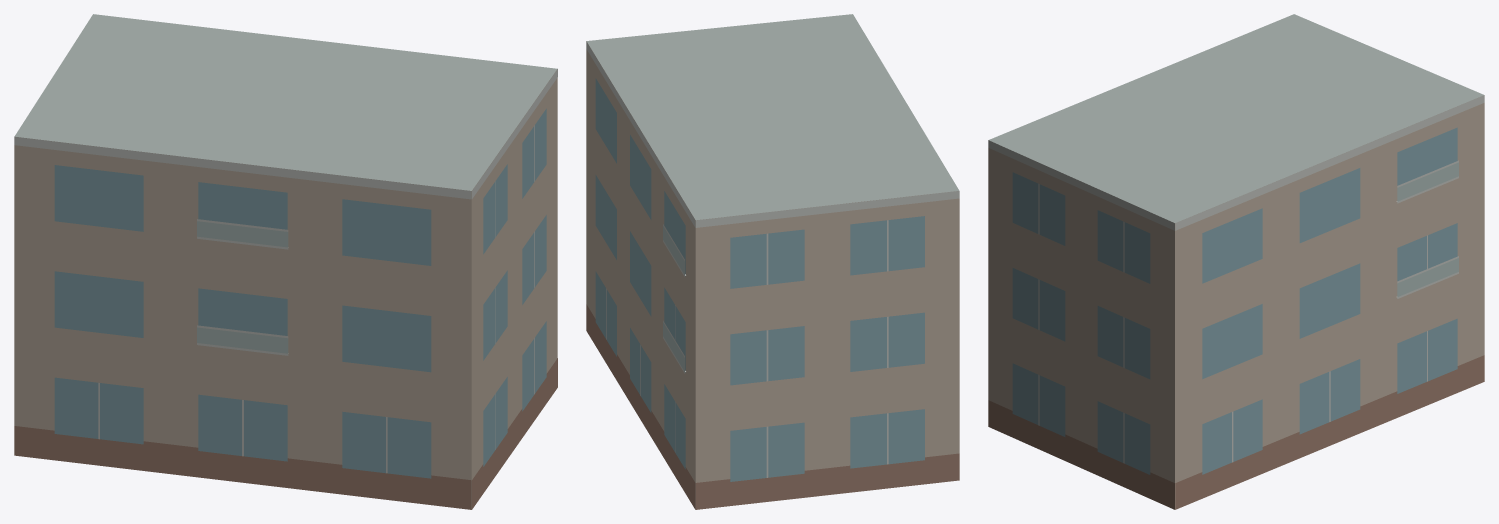
File: survey-upis-33031199.glb
3 renders of one model, left to right at view 1: azimuth 30°, elevation 25°; view 2: azimuth 150°, elevation 25°; view 3: azimuth 270°, elevation 25°, orthographic. The views are drawn at different scales.
Visible parts, largest first — view 1: survey-upis-33031199.tmp; view 2: survey-upis-33031199.tmp; view 3: survey-upis-33031199.tmp.
Boxes of the visible parts, x1,y1,x2,y2 form: survey-upis-33031199.tmp: (14, 14, 557, 509); survey-upis-33031199.tmp: (586, 14, 959, 509); survey-upis-33031199.tmp: (988, 14, 1484, 509).
Bounding box in the file's own units: 14.33 × 9.15 × 14.36.
